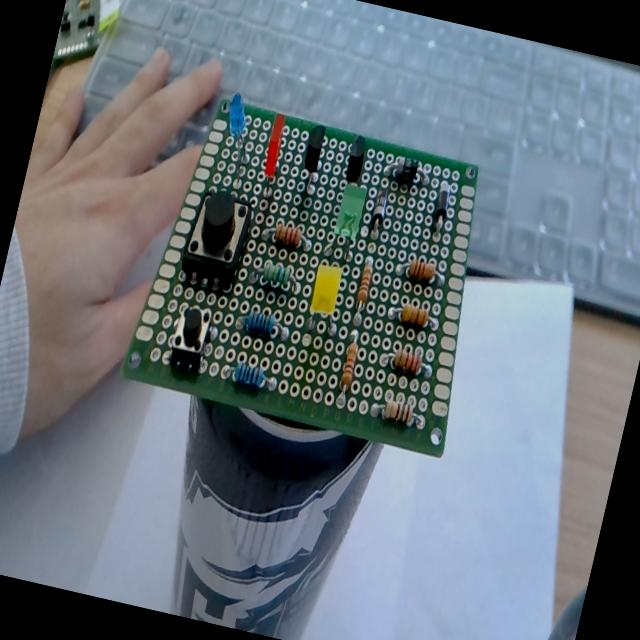diode: (427, 180, 455, 242), (382, 152, 429, 188), (367, 183, 393, 239)
led: (214, 90, 258, 176), (253, 113, 289, 207), (302, 261, 346, 336), (332, 182, 367, 240)
resistor: (333, 334, 361, 408), (223, 359, 278, 394), (249, 259, 301, 296), (370, 397, 426, 431), (388, 302, 442, 337), (381, 344, 434, 378), (397, 252, 447, 288), (350, 259, 376, 326), (261, 221, 312, 254), (238, 306, 286, 340)
switch: (179, 184, 258, 288), (166, 300, 216, 370)
transistor: (296, 121, 330, 198), (343, 134, 369, 184)
